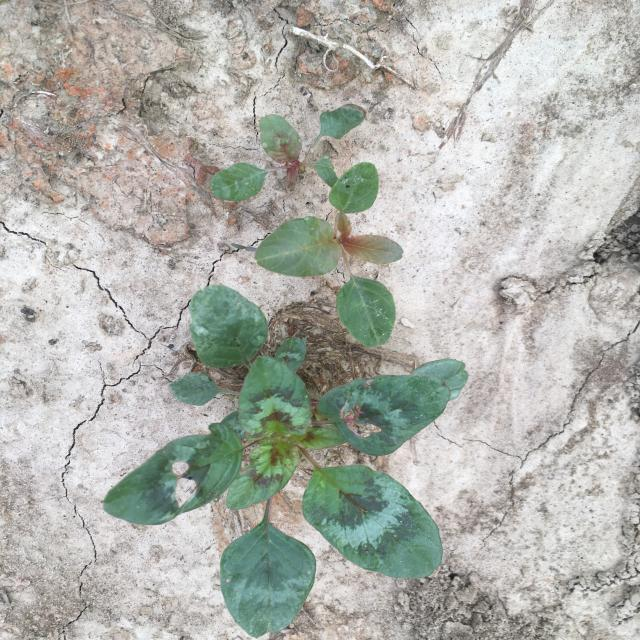PalmerAmaranth: (102, 284, 468, 637), (254, 162, 404, 348), (210, 104, 366, 202)
